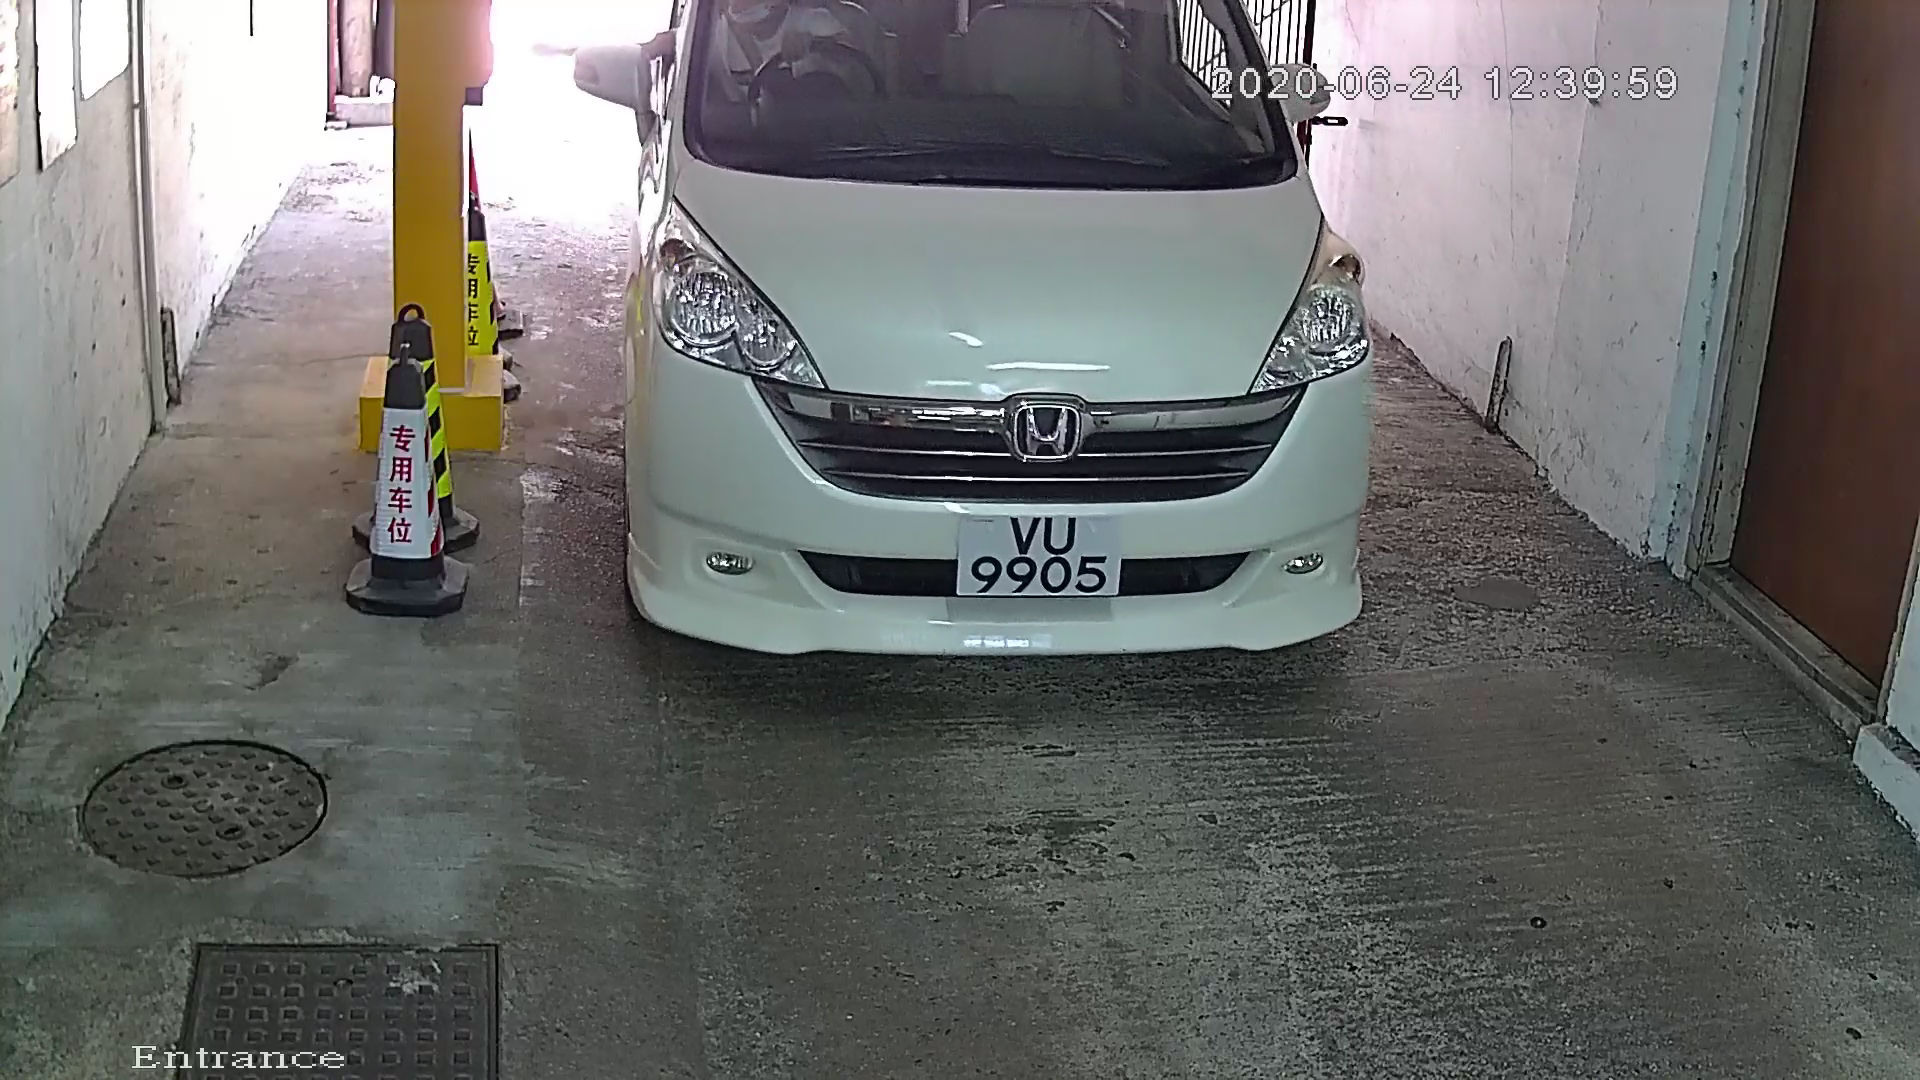Car: (553, 1, 1388, 732)
License Plate: (949, 499, 1133, 610)
